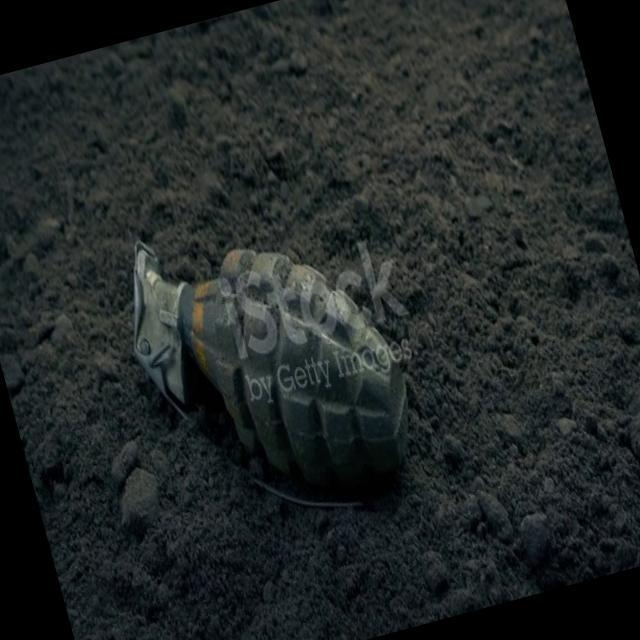grenade: (111, 197, 427, 538)
